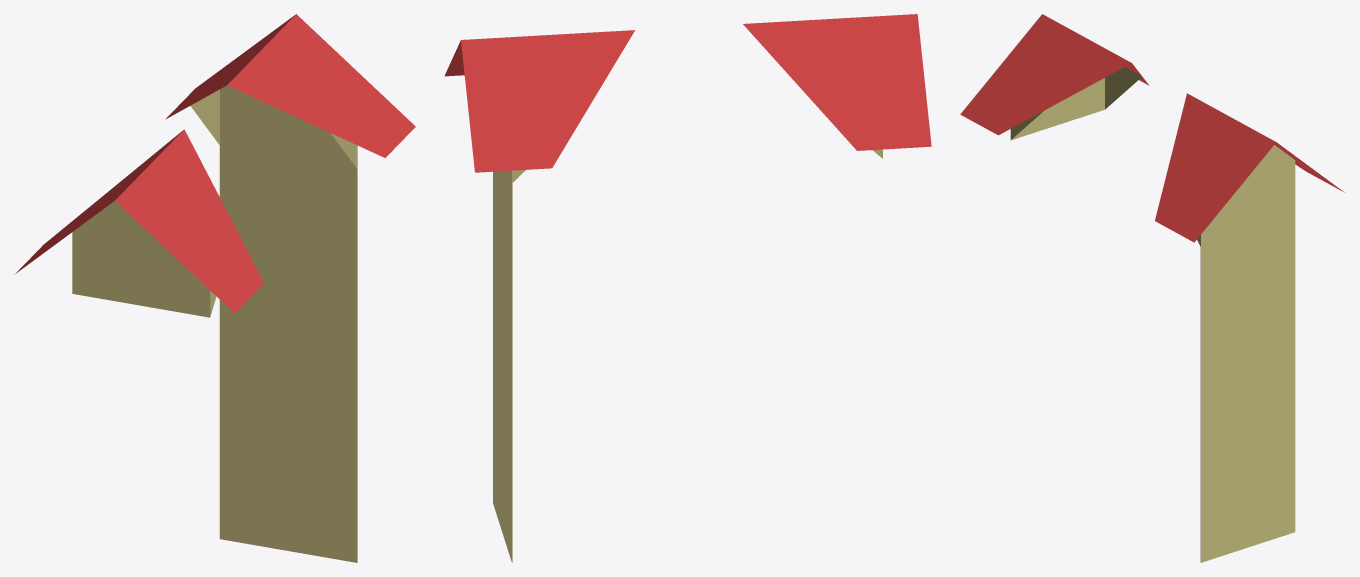
3 renders of one model, left to right at view 1: azimuth 30°, elevation 25°; view 2: azimuth 150°, elevation 25°; view 3: azimuth 270°, elevation 25°, orthographic. The views are drawn at different scales.
Bounding box in the file's own units: 11.69 × 10.73 × 12.75.
